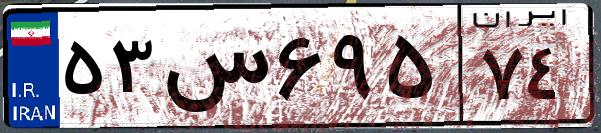3: (110, 28, 158, 98)
4: (525, 38, 570, 115)
5: (385, 28, 445, 110), (57, 26, 110, 100)
6: (270, 28, 330, 110)
7: (475, 38, 525, 113)
9: (330, 28, 385, 110)
س: (158, 20, 270, 120)
